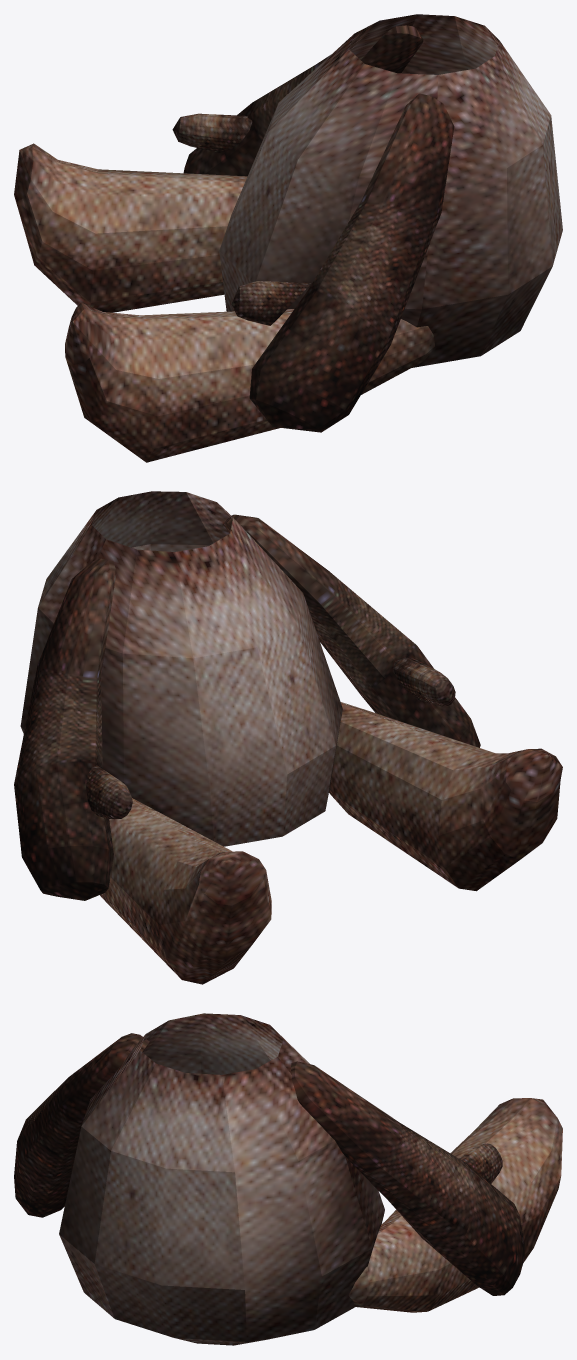
File: cuerpo.obj
3 views of the same model, one above another, from view 1: azimuth 30°, elevation 25°; view 2: azimuth 150°, elevation 25°; view 3: azimuth 270°, elevation 25° (orthographic). The views are drawn at different scales.
Parts seen in each view (by area): view 1: polySurface77; view 2: polySurface77; view 3: polySurface77.
Part boxes in pixels (x1,y1,x2,y2): polySurface77: [14, 14, 562, 462]; polySurface77: [14, 491, 562, 984]; polySurface77: [14, 1013, 562, 1345].
Size of the model in its own units: 0.2492 by 0.1562 by 0.2444.
2 materials, 2 textured.
